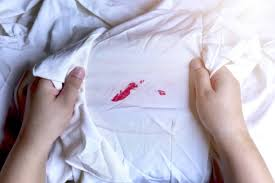kimchi: (105, 78, 145, 102), (157, 86, 168, 98)
